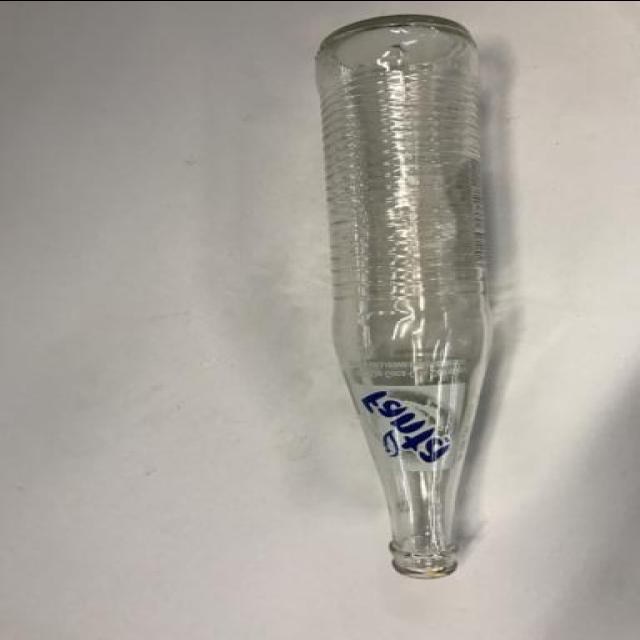glass: (296, 11, 508, 614)
